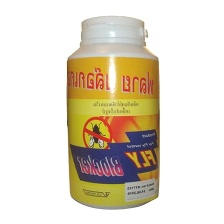insecticide: (62, 12, 165, 213)
